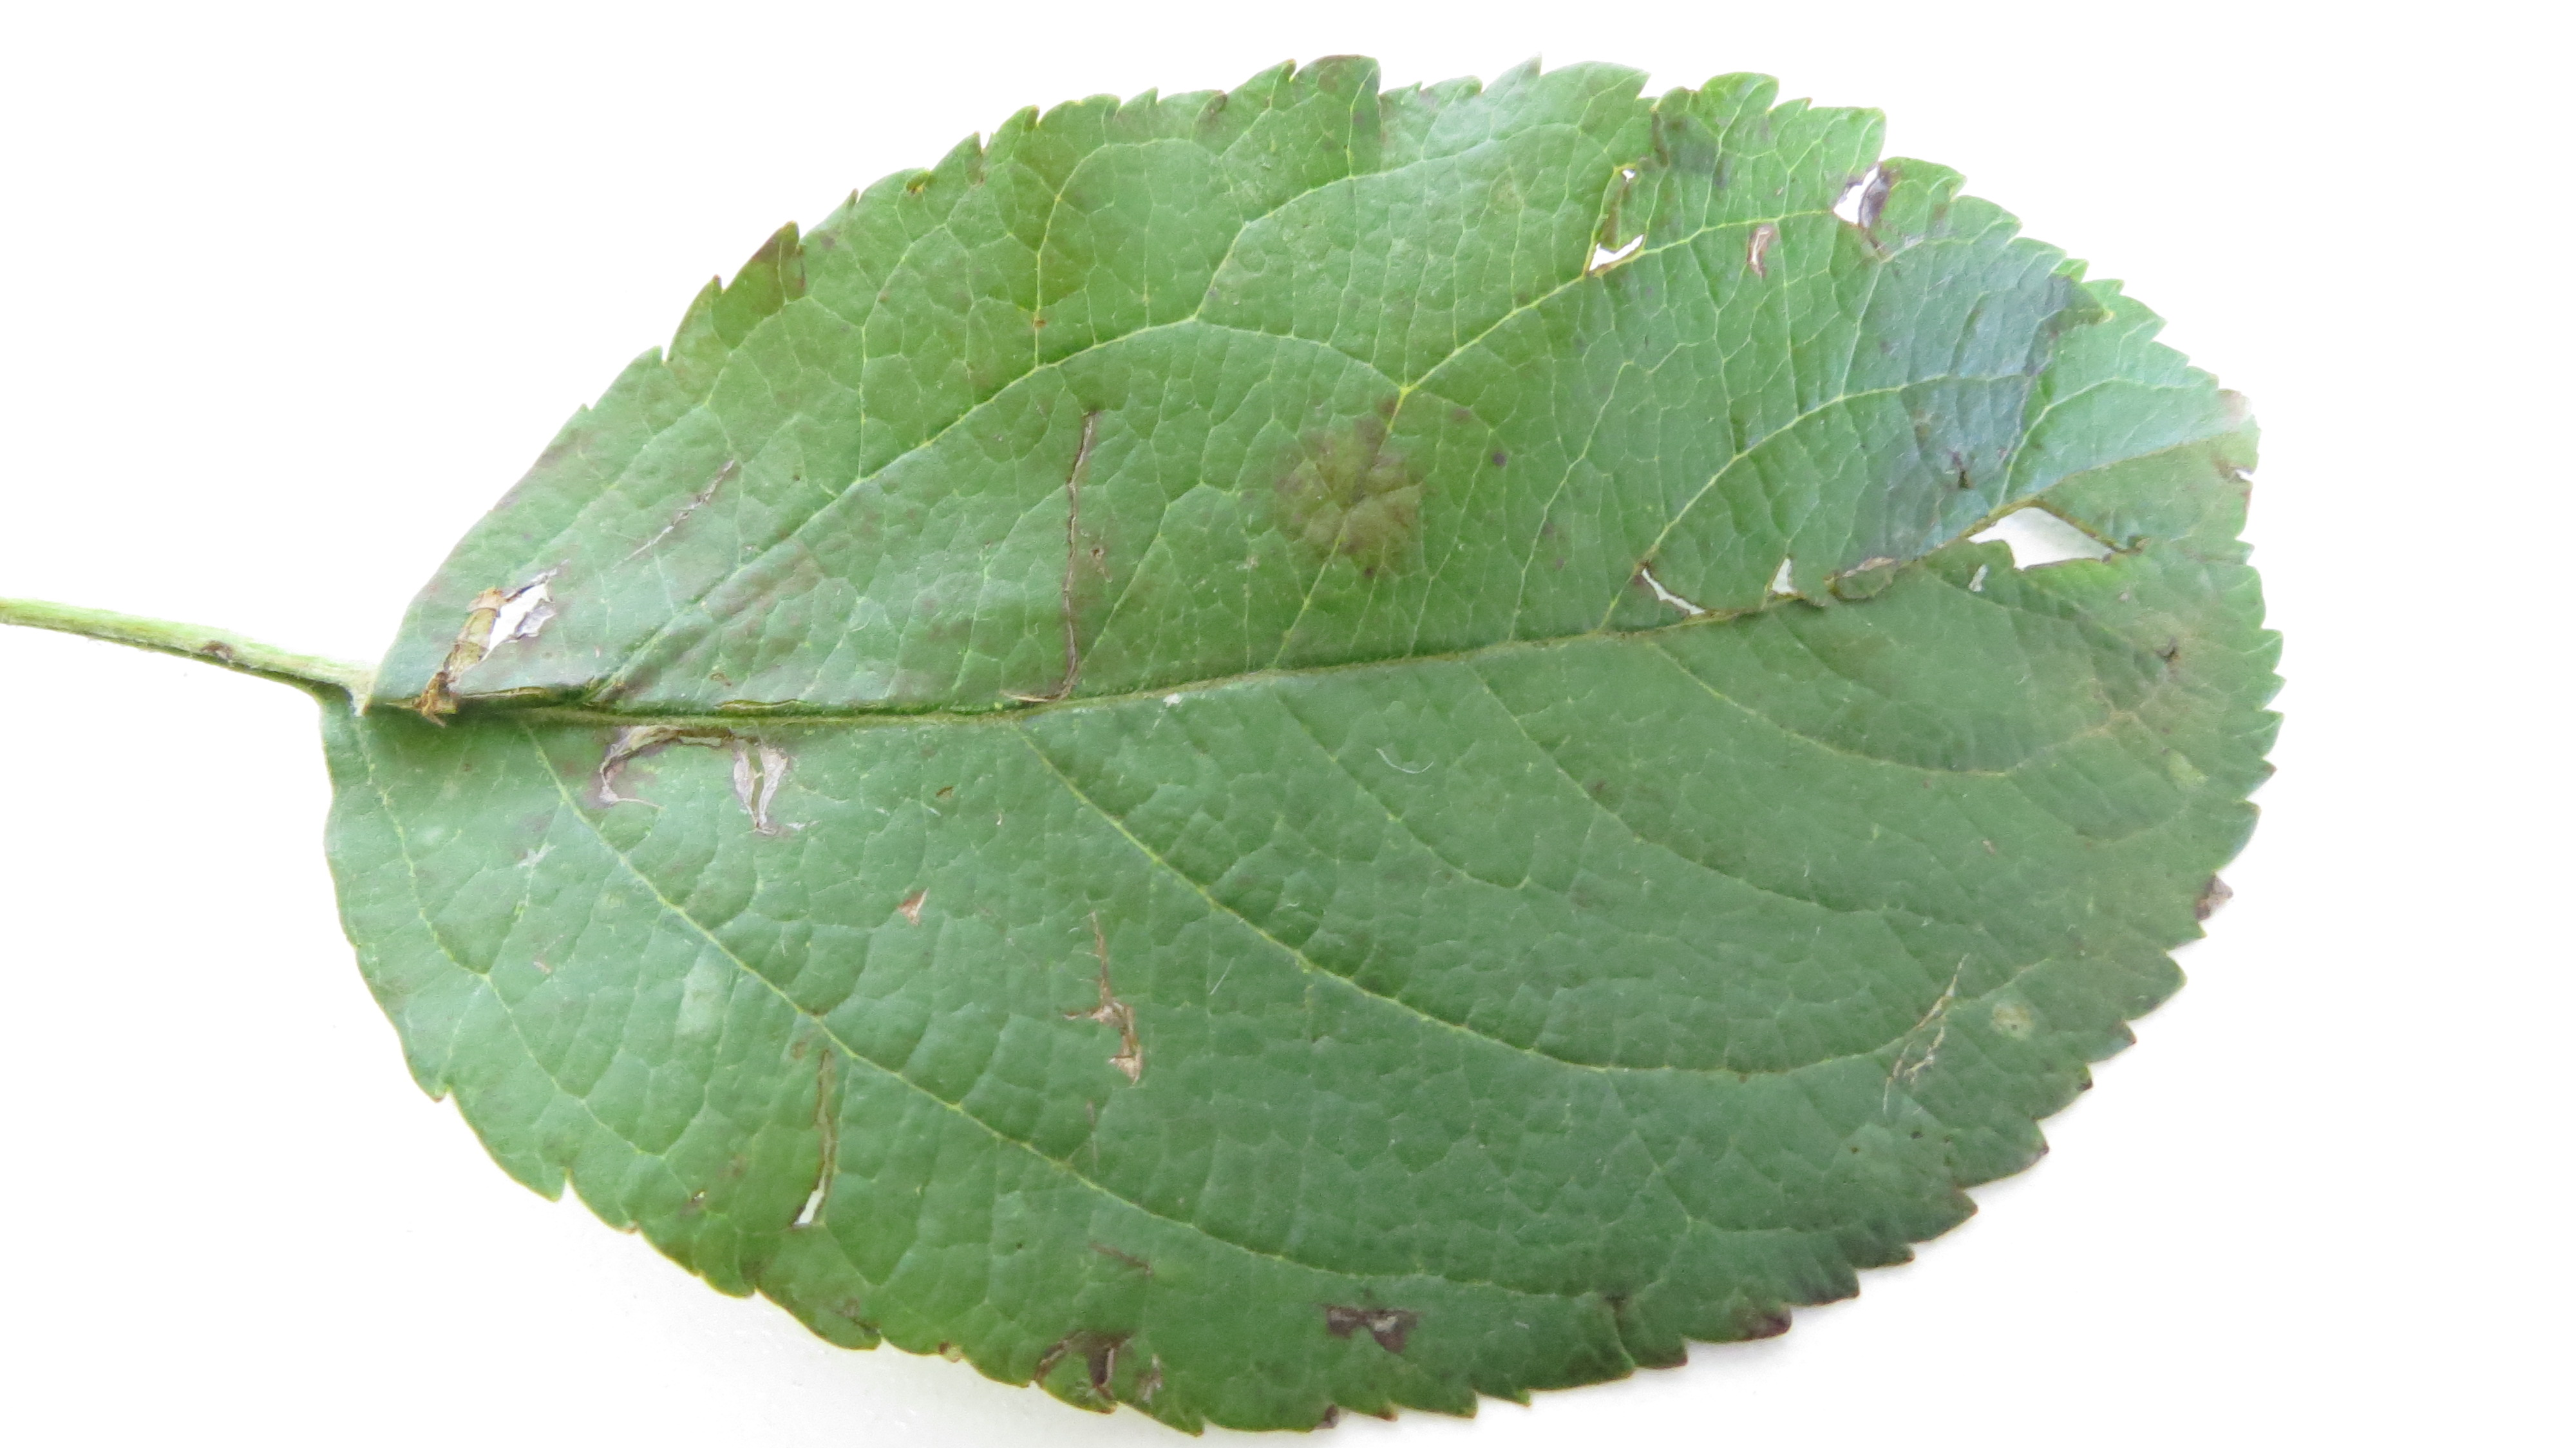sarna: (1859, 234, 2068, 519), (1242, 386, 1437, 588), (1033, 1306, 1175, 1420), (1302, 1253, 1415, 1370), (1030, 512, 1143, 621), (1628, 80, 1729, 184)
